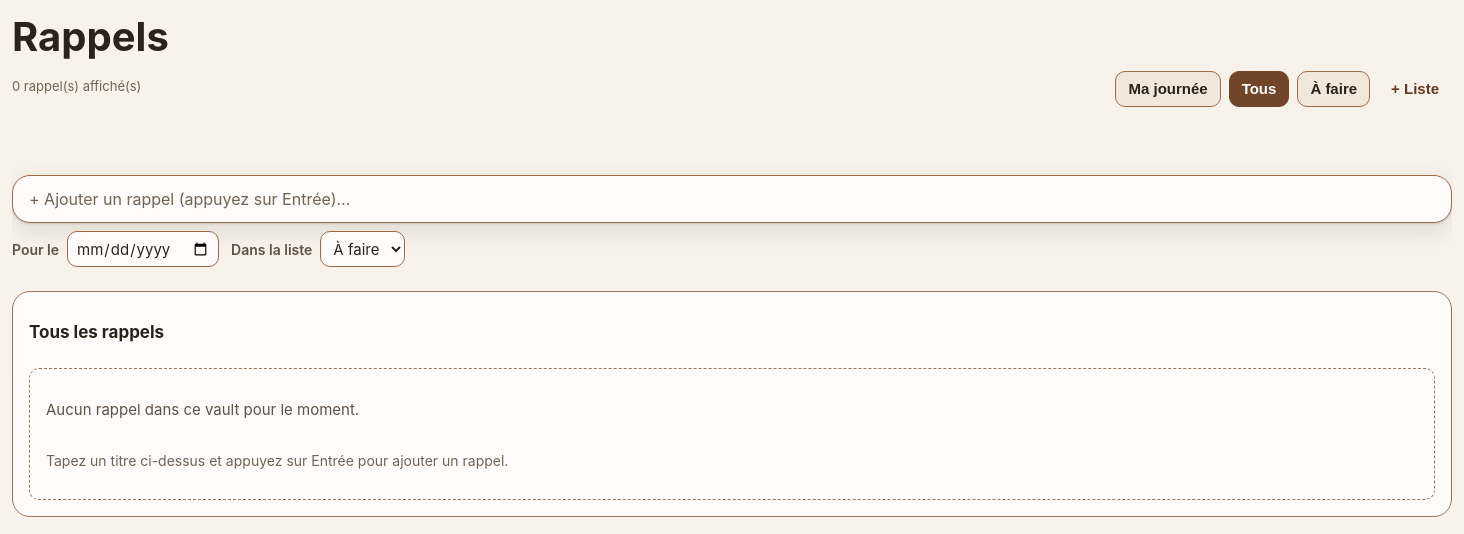
RemindersScreen › crée un rappel par saisie rapide et Entrée
This screenshot has width=1464, height=534.
Type "Nouveau rappel" into the field named "Titre du nouveau rappel" at x=732, y=199, box [12, 175, 1452, 223]
Then press Enter
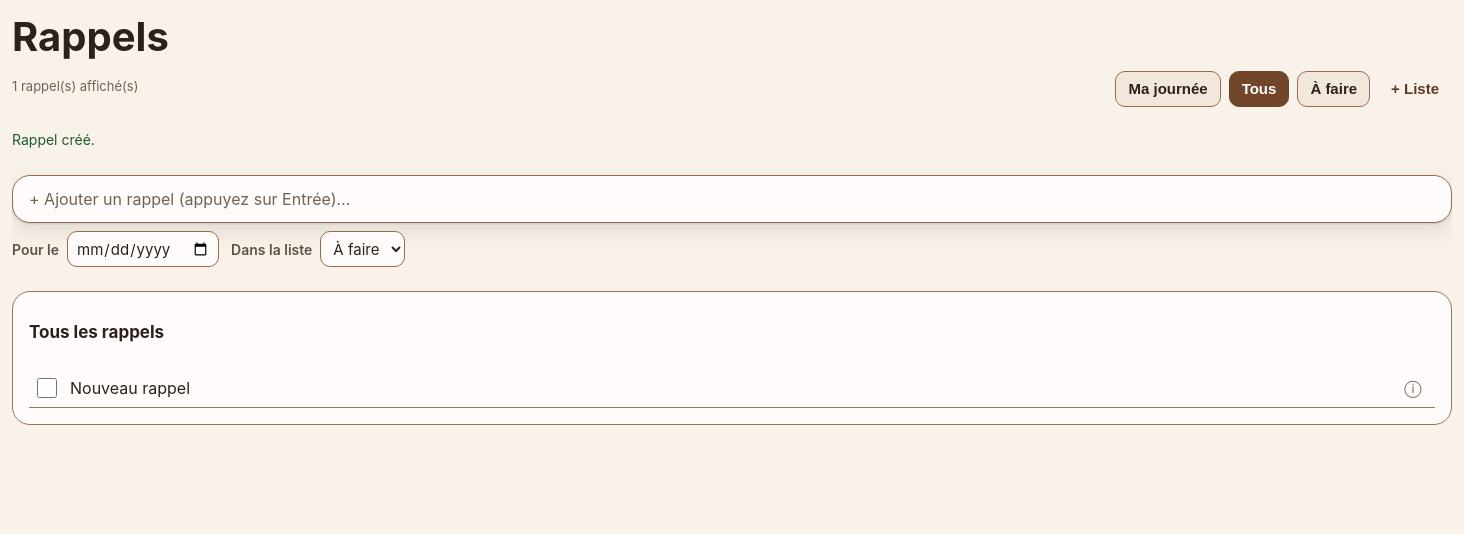
Result: the text "Rappel créé." is shown at [12, 131, 95, 148]
Result: the field showing "Nouveau rappel" is shown at [65, 371, 1383, 404]
Result: the text "1 rappel(s) affiché(s)" is shown at [12, 78, 138, 94]
